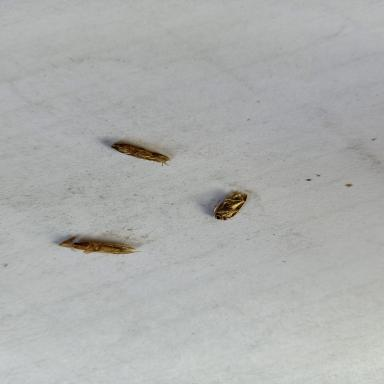pbw: (111, 140, 172, 164), (64, 238, 140, 256), (214, 190, 247, 220)
